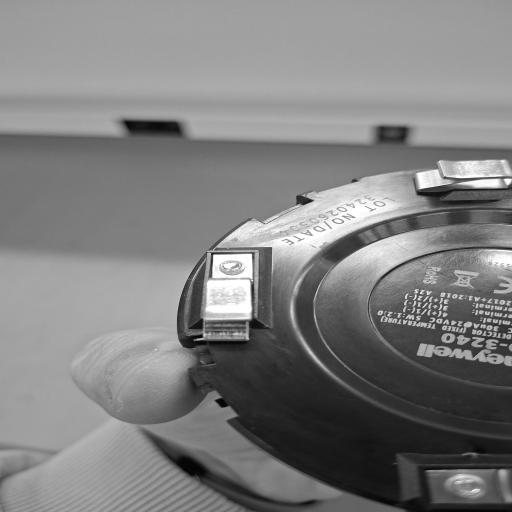yayli: (193, 246, 283, 346), (404, 152, 512, 200)
